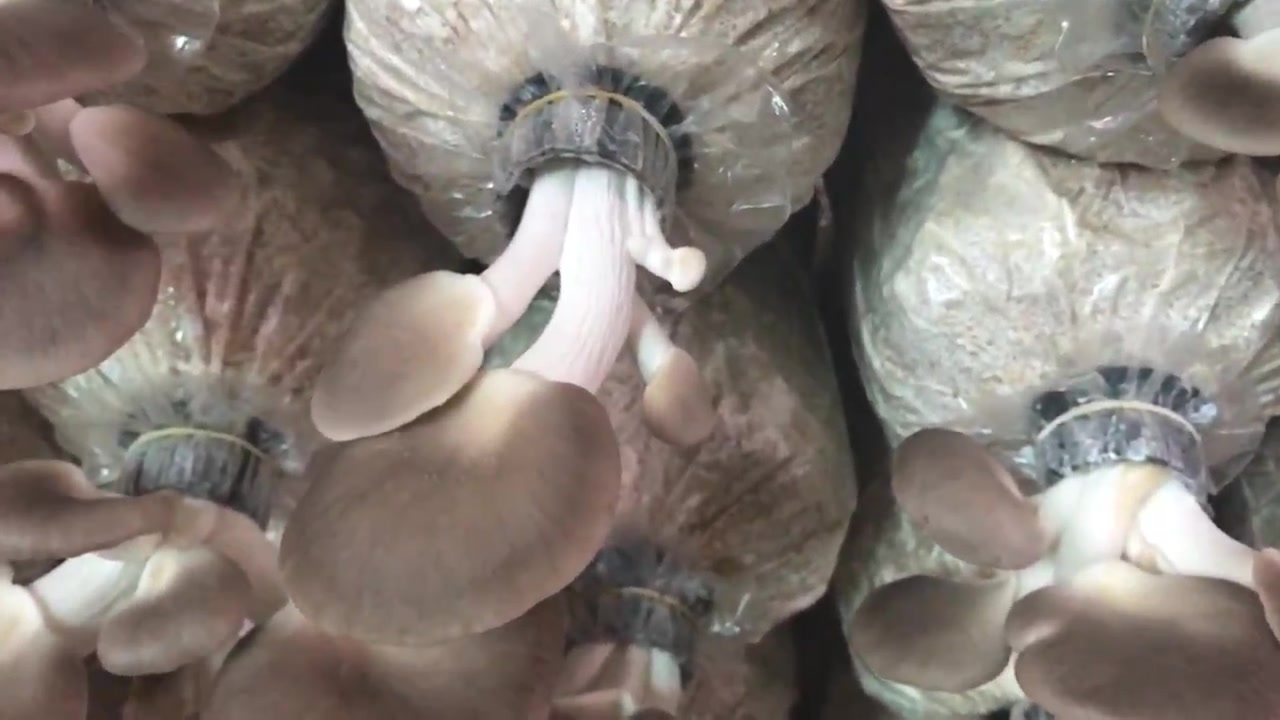nam: (286, 68, 718, 641), (1, 418, 550, 720), (846, 392, 1280, 718), (3, 1, 245, 393), (556, 555, 735, 720), (1142, 1, 1280, 163)
